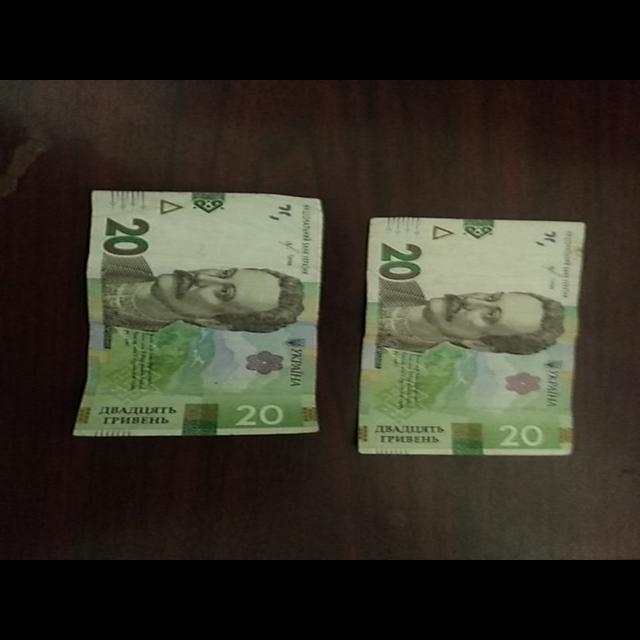20uah: (73, 186, 321, 434), (358, 217, 590, 458)
